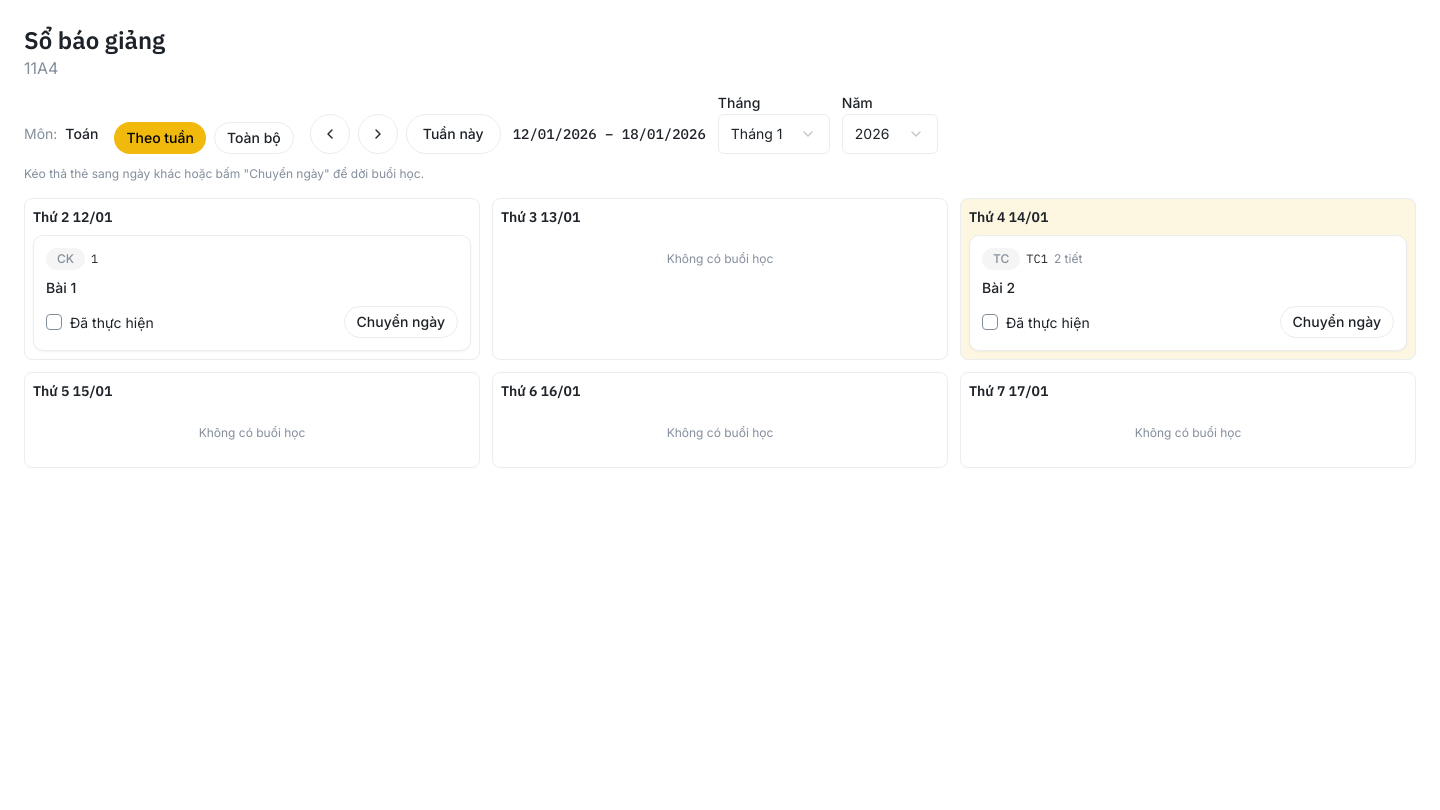
Test: chuyển ngày bằng hộp thoại › (f) chọn 22/01 → gọi đúng payload; thành công → thông báo, đóng hộp thoại
Click the button "Chuyển ngày" below "Thứ 2 12/01" at (401, 322), box top-left (344, 306), bottom-right (458, 338)
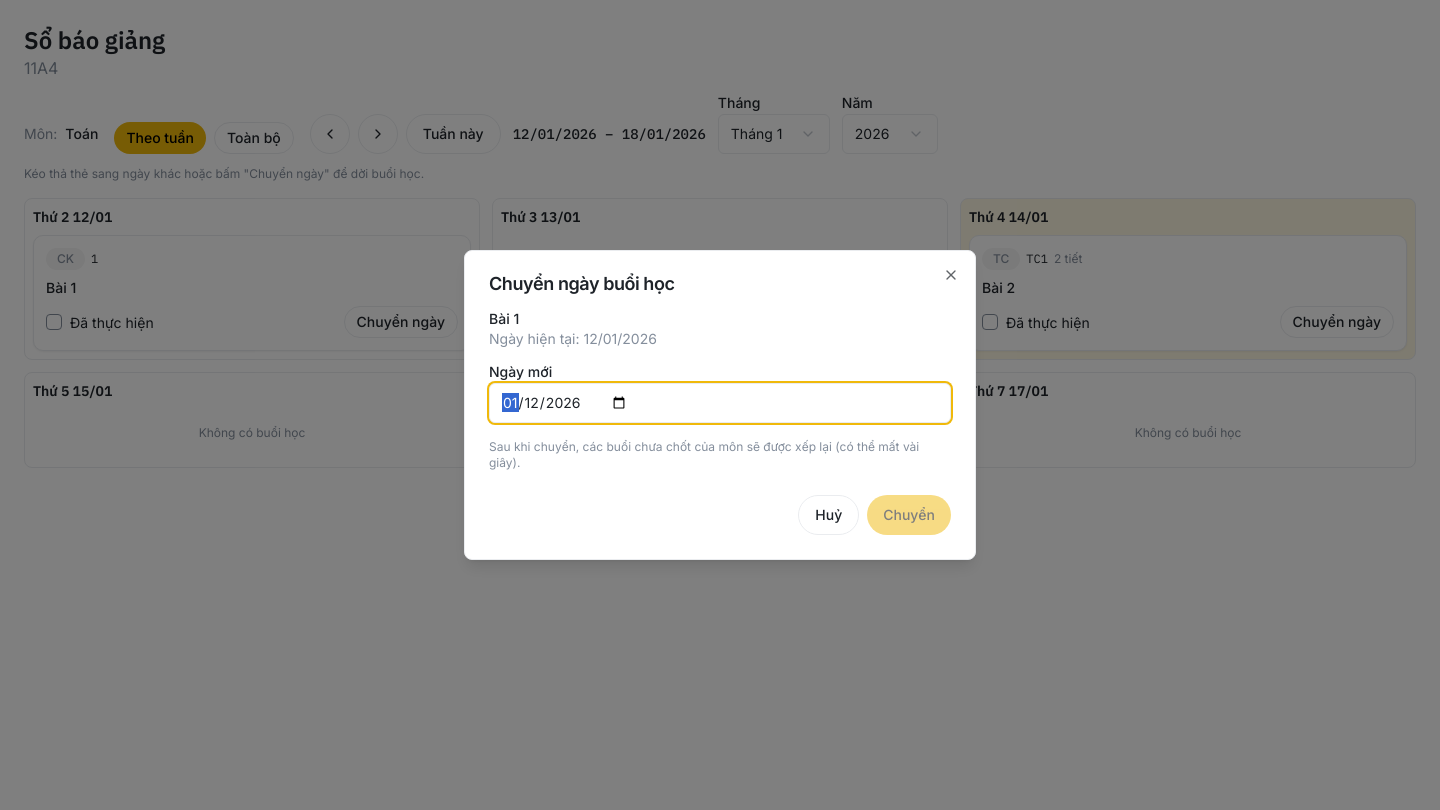
Check: the date field labelled "Ngày mới" holds "2026-01-12"
Type "2026-01-22" into the date field labelled "Ngày mới" at (720, 403), box top-left (489, 383), bottom-right (951, 423)
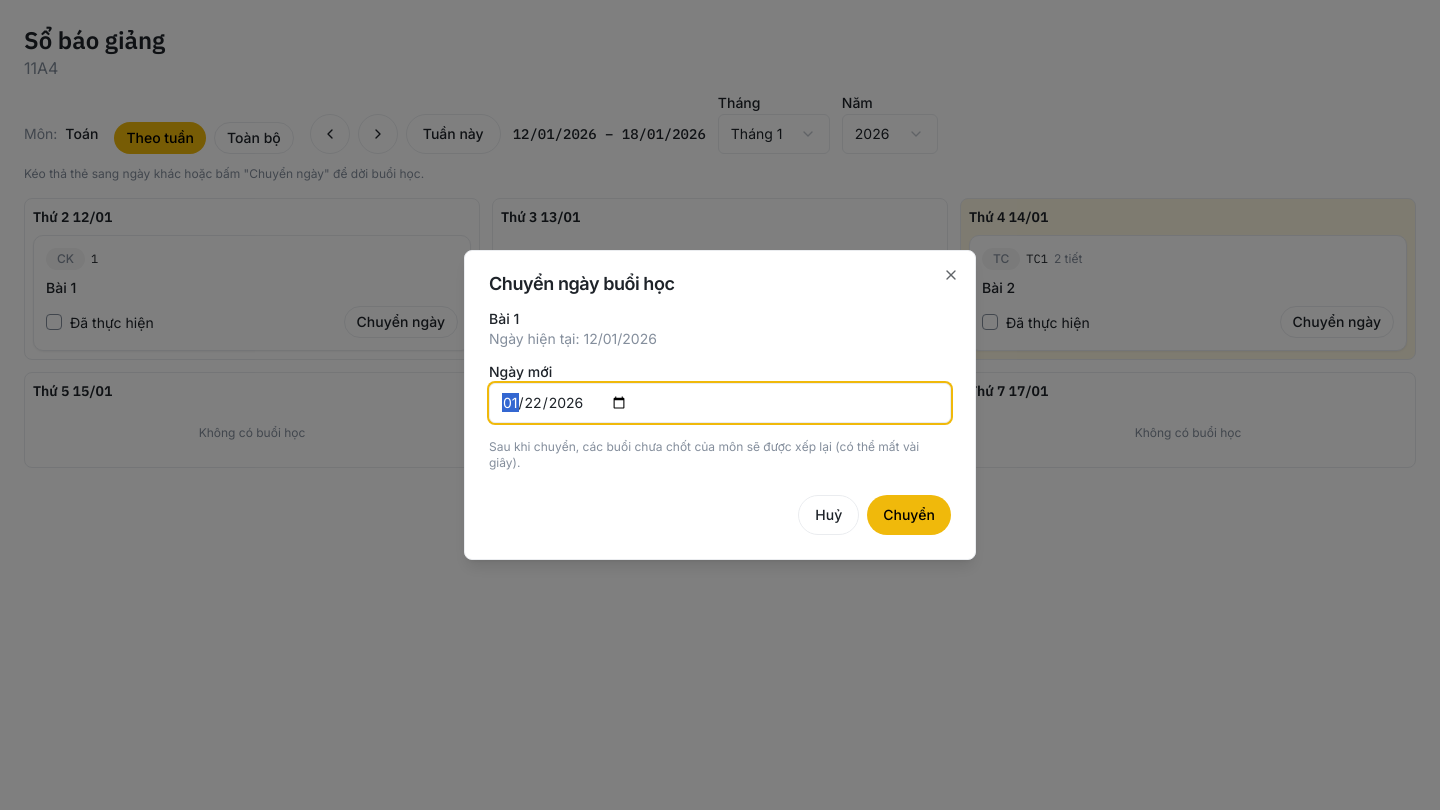
Click the button "Chuyển" at (909, 515), box top-left (867, 495), bottom-right (951, 535)
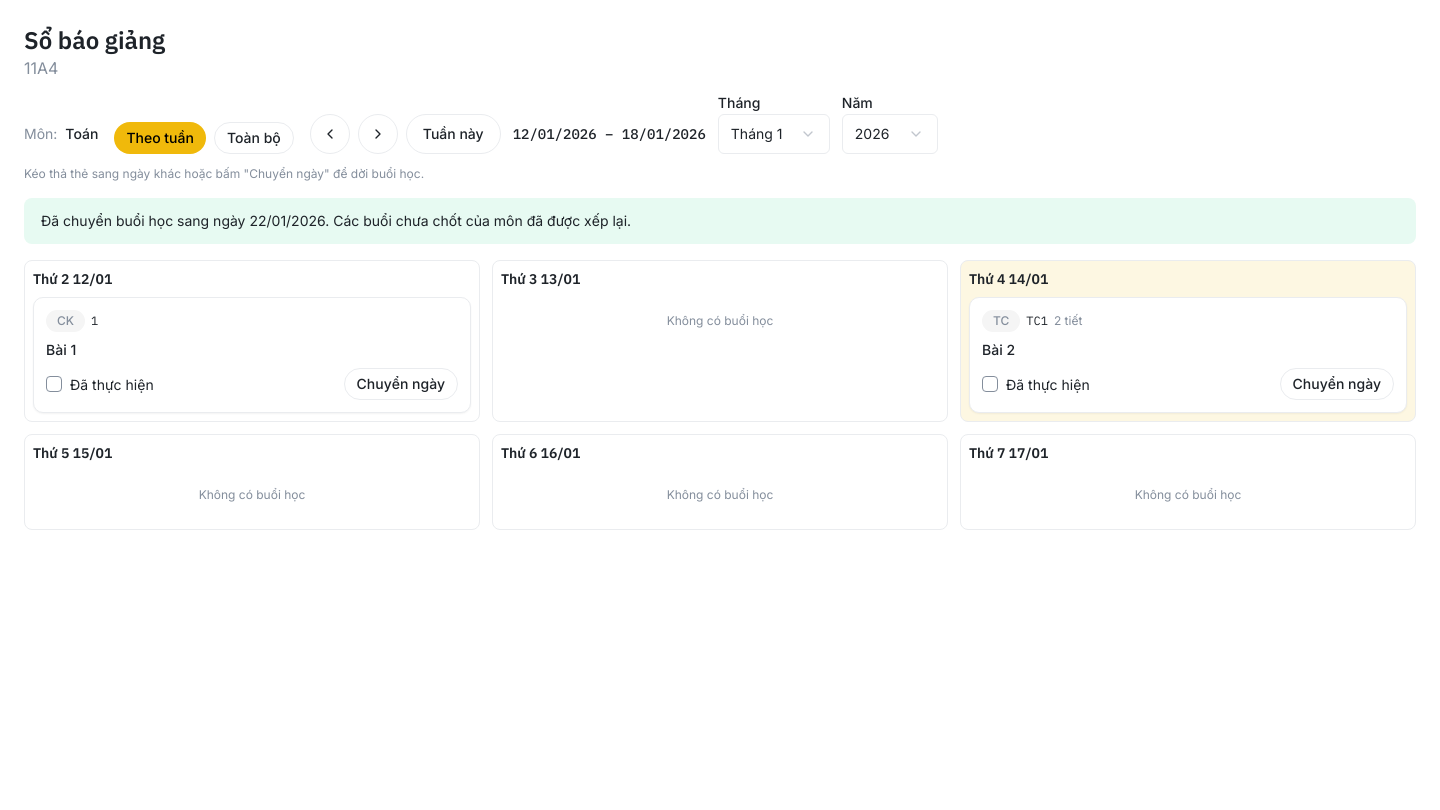
Check: the text "Đã chuyển buổi học sang ngày 22/01/2026. Các buổi chưa chốt của môn đã được xếp lại." is shown, box top-left (41, 212), bottom-right (631, 229)
Check: the dialog is gone
